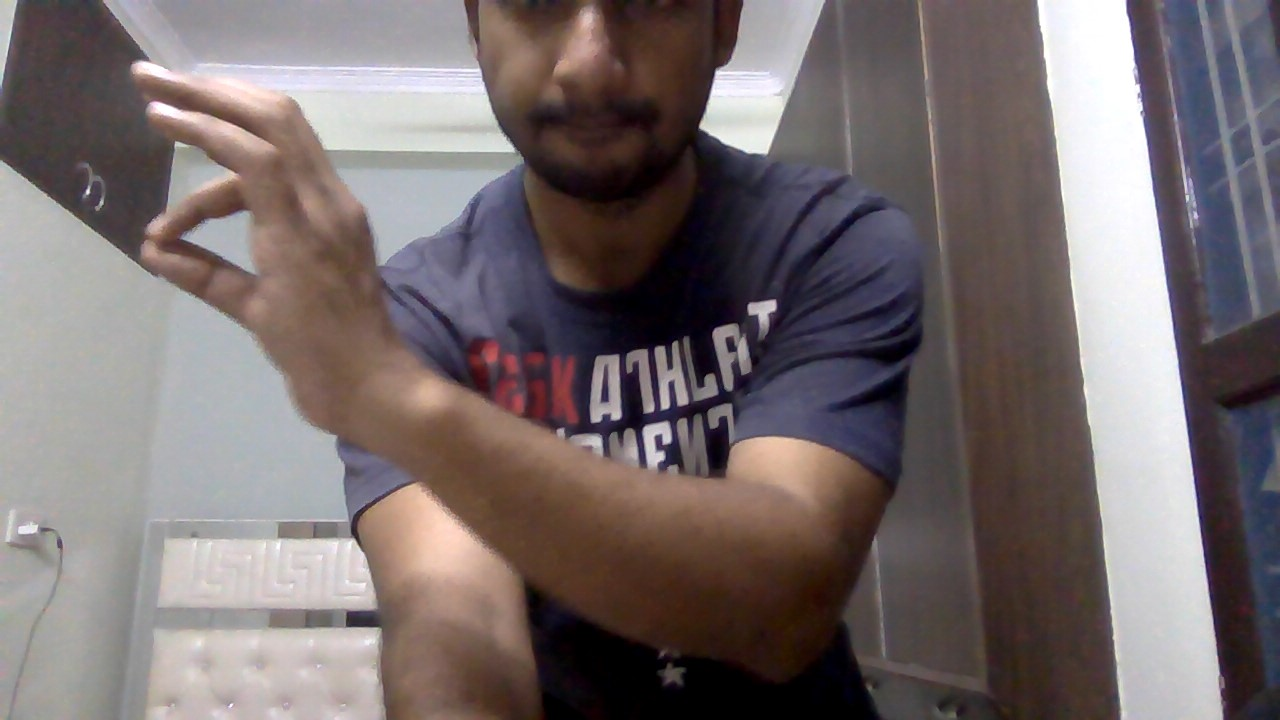Copy: (114, 53, 413, 448)
